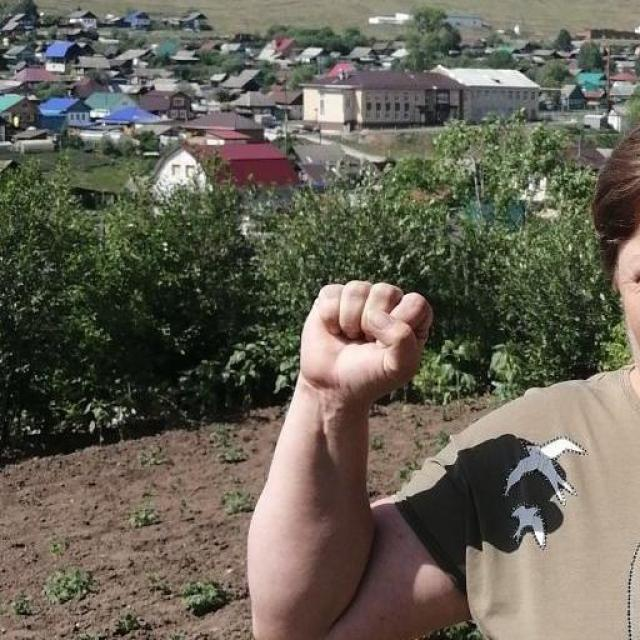hand: (297, 277, 433, 408)
